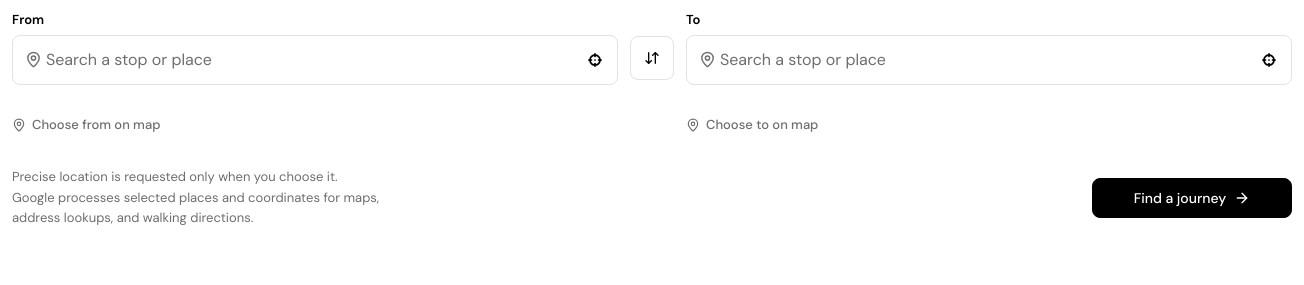
Test case: Guest journey form › keeps the location usable with a coordinate label when address lookup fails
The image size is (1304, 285).
Click the button named "Use my location for from" at (595, 60), box [577,42,613,78]
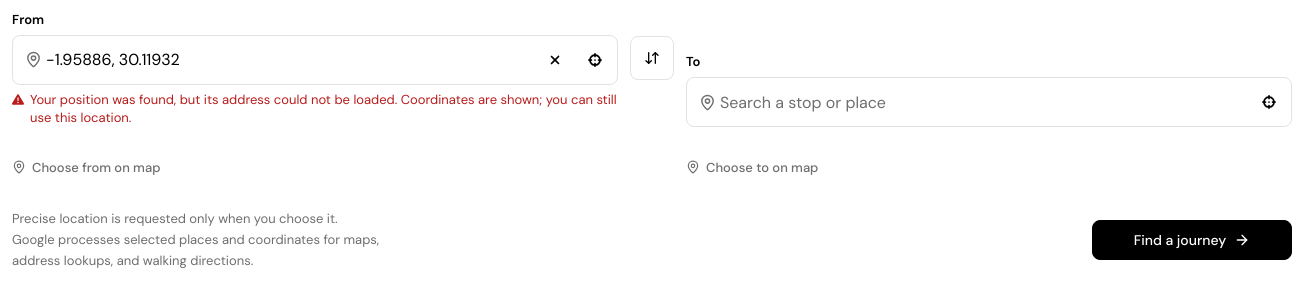
Now the text "its address could not be loaded" is shown, box [30,91,617,126]
Now the dropdown labelled "From" holds "-1.95886, 30.11932", box [46,36,533,84]
